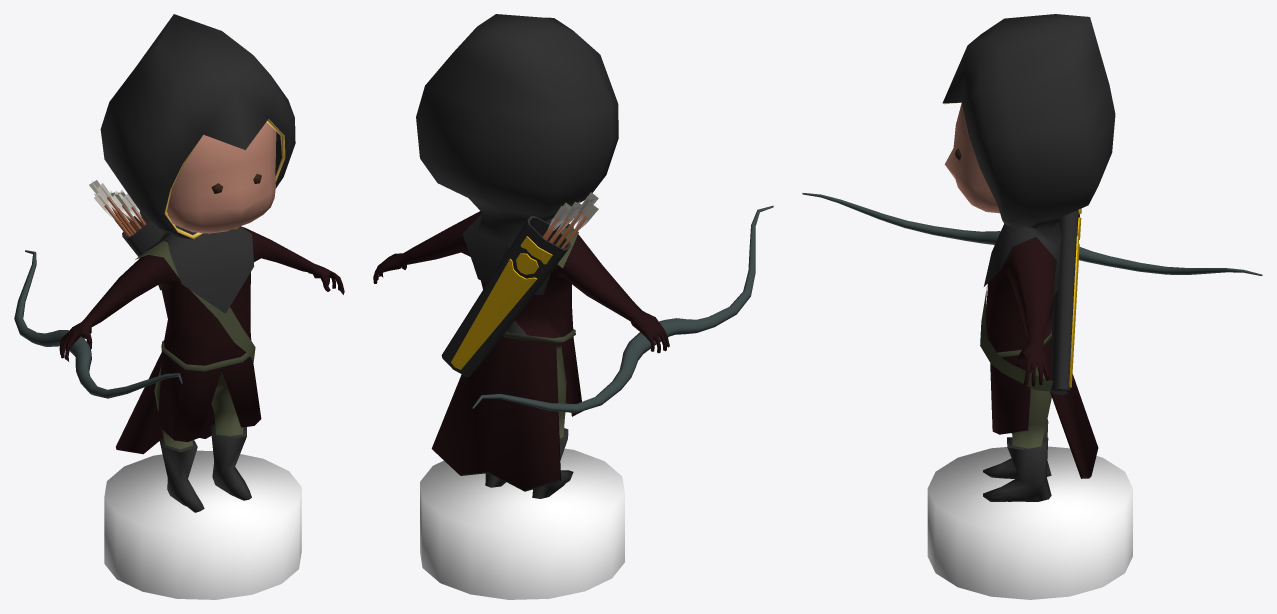
File: sirius.glb
The picture shows the model from 3 angles, left to right: view 1: azimuth 30°, elevation 25°; view 2: azimuth 150°, elevation 25°; view 3: azimuth 270°, elevation 25°; orthographic projection. The views are drawn at different scales.
Visible parts, largest first — view 1: sirius; view 2: sirius; view 3: sirius.
Boxes of the visible parts, x1,y1,x2,y2 form: sirius: [14, 14, 344, 599]; sirius: [373, 14, 773, 599]; sirius: [802, 14, 1262, 599].
Size of the model in its own units: 0.9176 by 1.53 by 1.18.
1 material, 1 textured.
